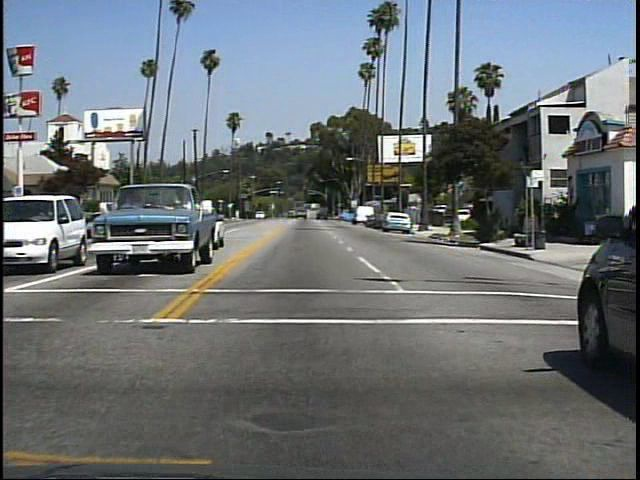person: (491, 199, 514, 247)
